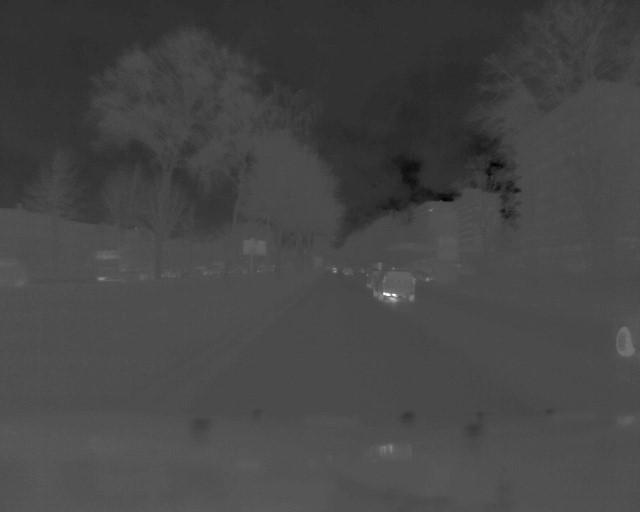car: (372, 269, 424, 305)
